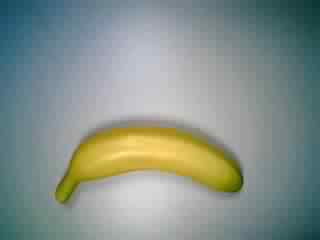banana: (46, 122, 258, 213)
